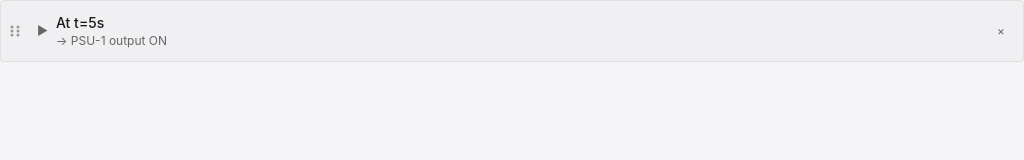
Test case: TriggerEditor › Delete Functionality › should cancel delete confirmation
Click the button titled "Delete trigger".
click(1001, 31)  # box x1=991 y1=21 x2=1011 y2=41
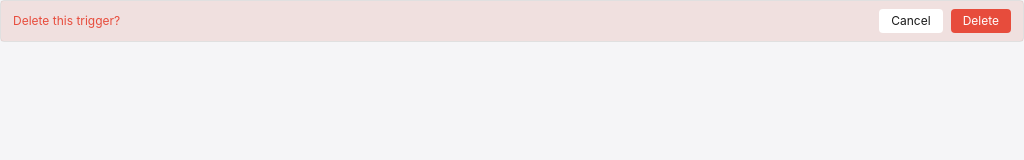
Click the button "Cancel".
click(911, 21)  # box x1=879 y1=9 x2=943 y2=33
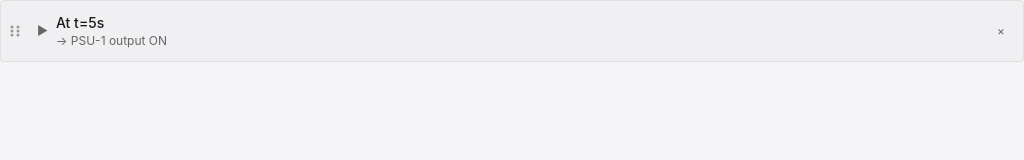
Result: the text "Delete this trigger?" is gone
